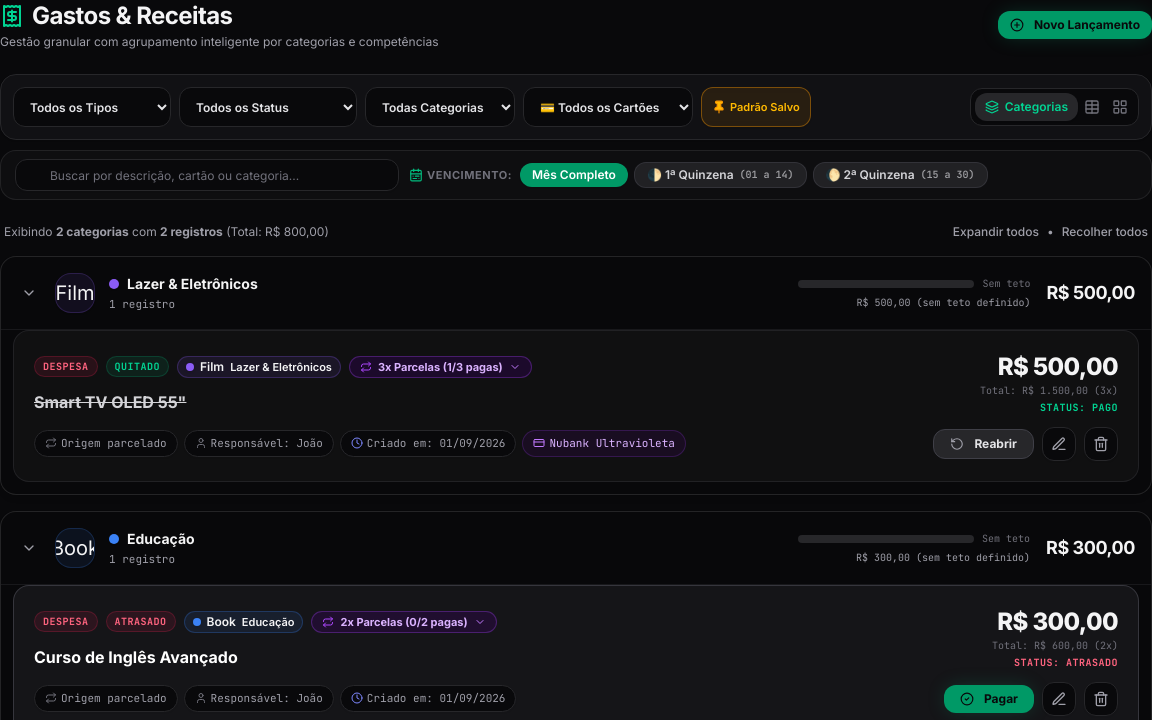
Test: Gestão de Gastos Parcelados & Critérios 001 e 002 › Critério 002: Exibir somente pagamentos pendentes no filtro quando parcela vigente for paga › exibe o registro pai no filtro Pagos quando a parcela da competência vigente estiver paga
Select "Pagos / Recebidos" in the 2nd dropdown showing "Todos os Status" at (268, 107), box [179,87,357,127]
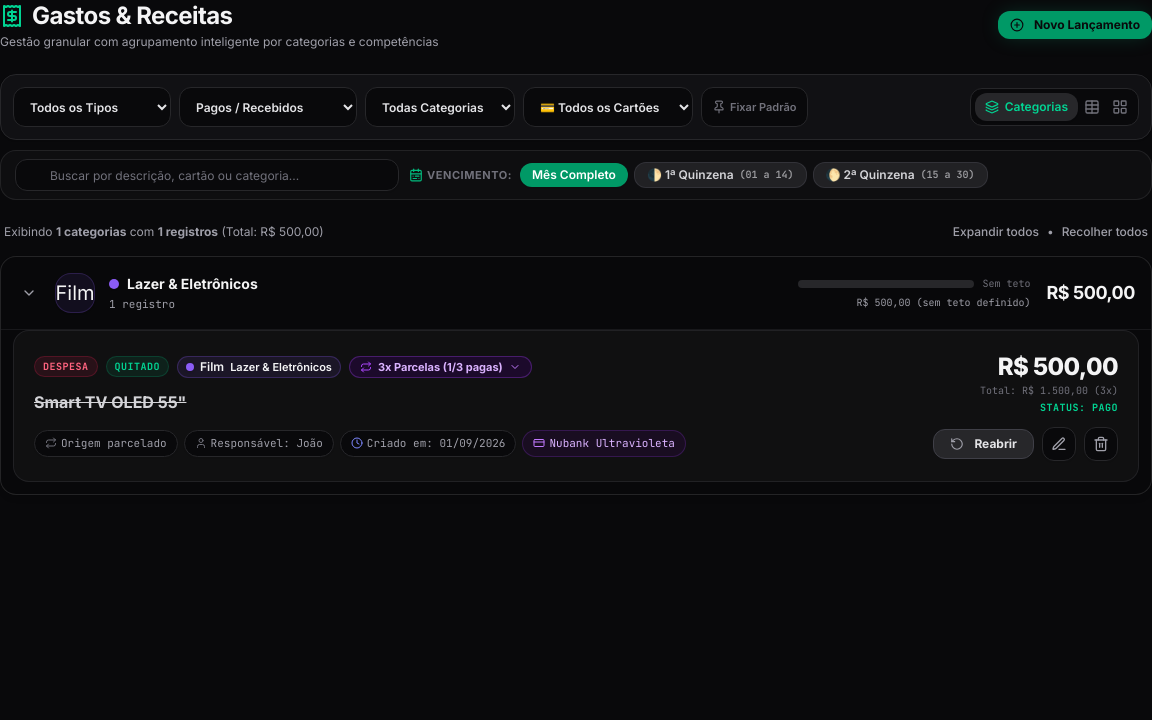
Expected: the heading "Smart TV OLED 55\"" is shown, [34,392,186,412]
Result: the heading "Curso de Inglês Avançado" is gone
